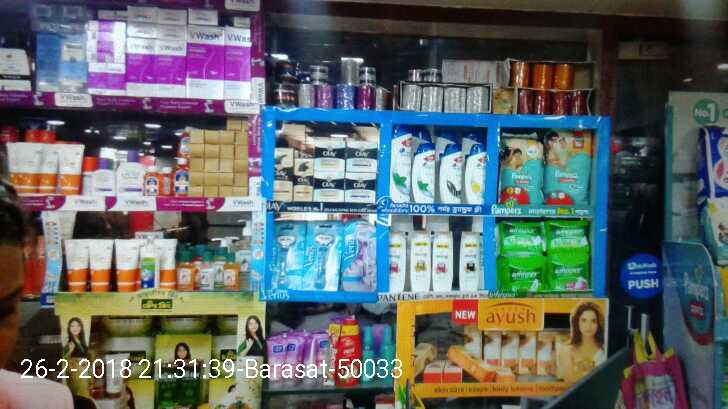venus: (341, 221, 377, 291), (304, 219, 339, 291), (273, 219, 304, 290)
